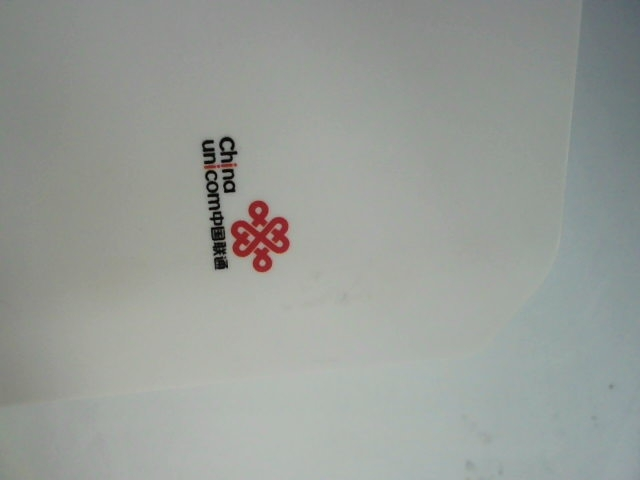AC_ChinaUnicom: (190, 129, 298, 280)
